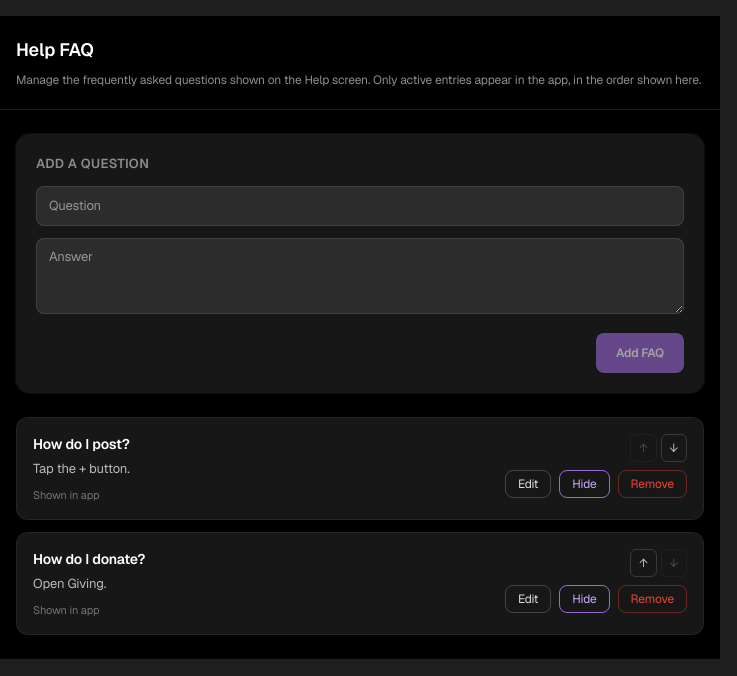
Test: HelpFaqsPage › removes an entry
The image size is (737, 676).
Click the button "Remove" in the row of "Tap the + button." at [652, 484], box 618,470 -> 687,498
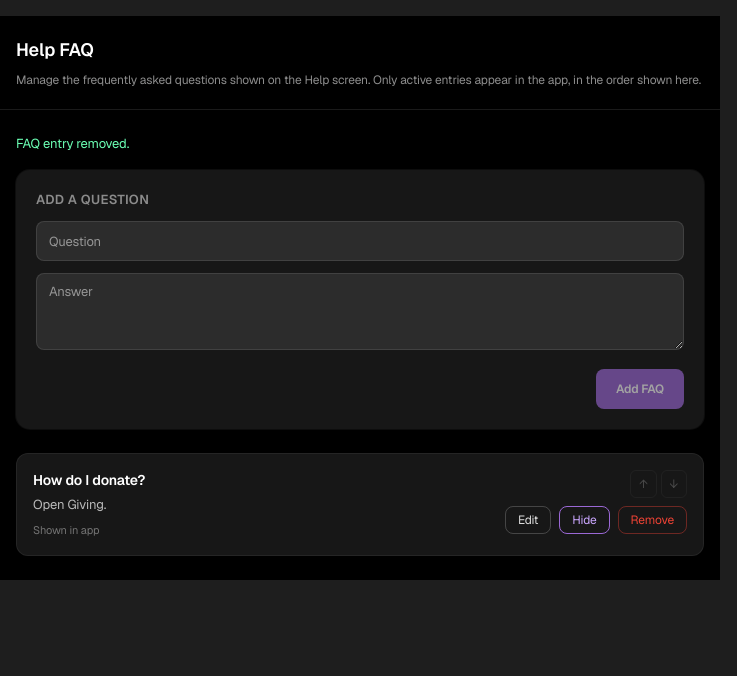
Expected: the text "How do I donate?" is shown, 33,470 -> 145,490
Result: the text "How do I post?" is gone
